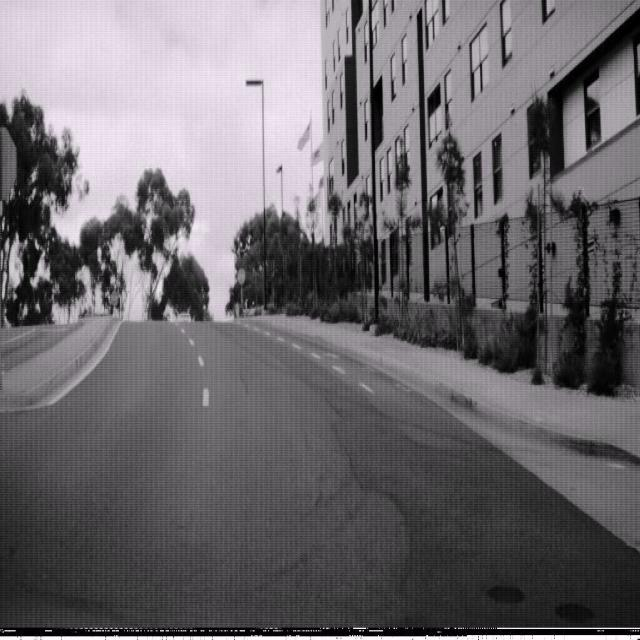stop: (237, 266, 246, 284)
